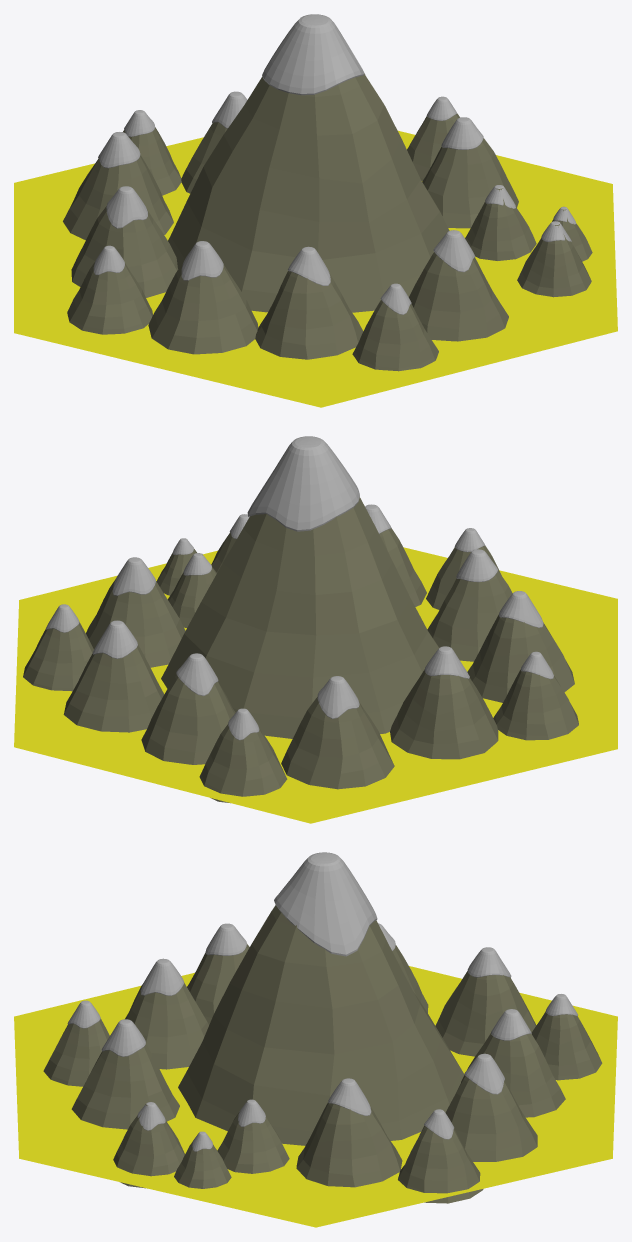
The model's file is Tatles1.fbx_Titel_Gori_V2.fbx.
The picture shows the model from 3 angles, top to bottom: view 1: azimuth 30°, elevation 25°; view 2: azimuth 150°, elevation 25°; view 3: azimuth 270°, elevation 25°; orthographic projection.
Visible parts, largest first — view 1: Gori_V2, 6 granik.003; view 2: Gori_V2, 6 granik.003; view 3: Gori_V2, 6 granik.003.
Part boxes in pixels (<box>): Gori_V2: <box>63,14,592,371</box>; 6 granik.003: <box>14,130,617,407</box>; Gori_V2: <box>23,436,578,803</box>; 6 granik.003: <box>14,547,617,823</box>; Gori_V2: <box>43,852,602,1203</box>; 6 granik.003: <box>14,966,617,1227</box>.
Size of the model in its own units: 18.21 by 7.34 by 16.18.
